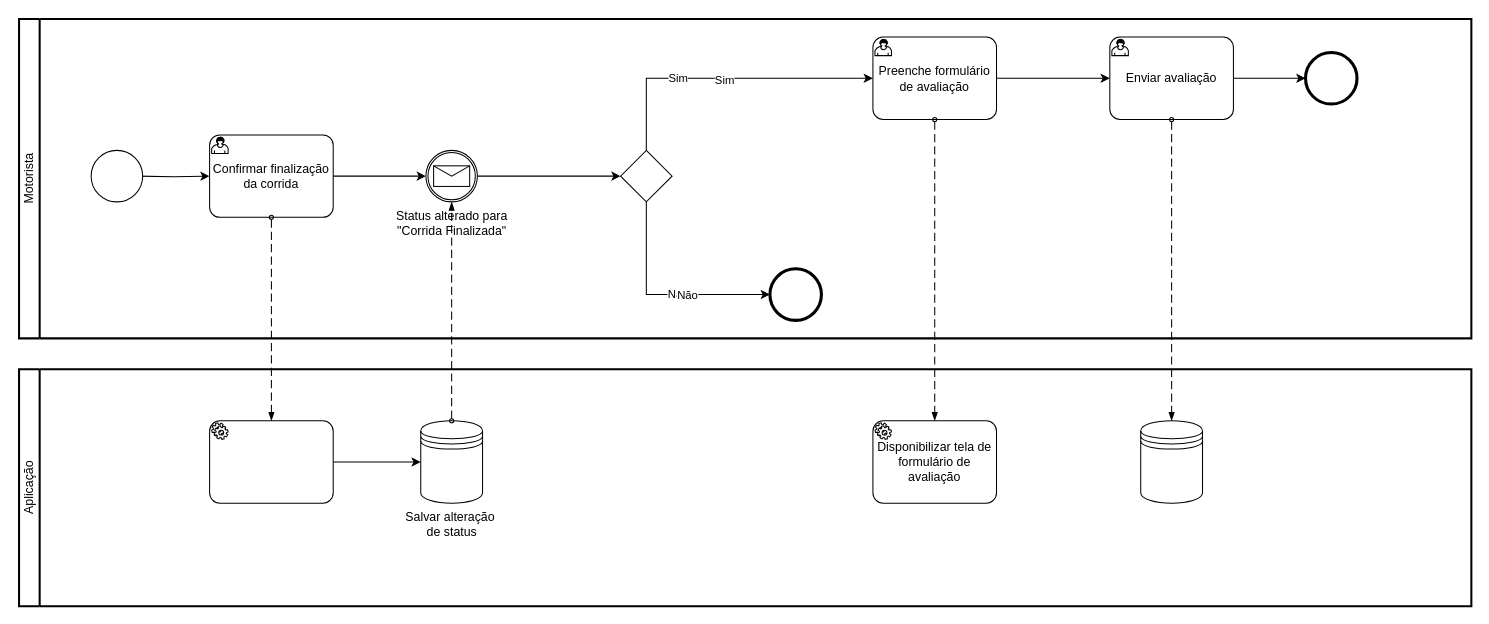
This 1489x624 diagram has some shape labels left out. Each missing label, with the centre of its shape:
"Alteração do status da corrida" belongs at point 271,461.
"Corrida Finalizada" belongs at point 116,175.
"Gostaria de avaliar o usuário?" belongs at point 646,175.
"Salvar avaliação" belongs at point 1171,461.
